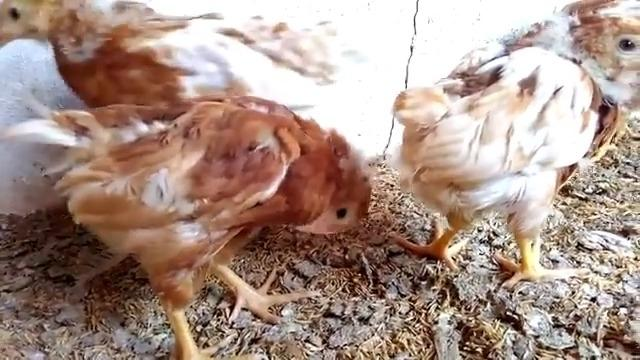AbNormal: (60, 106, 376, 354)
